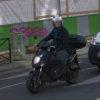Motorcycle: (18, 30, 89, 97)
